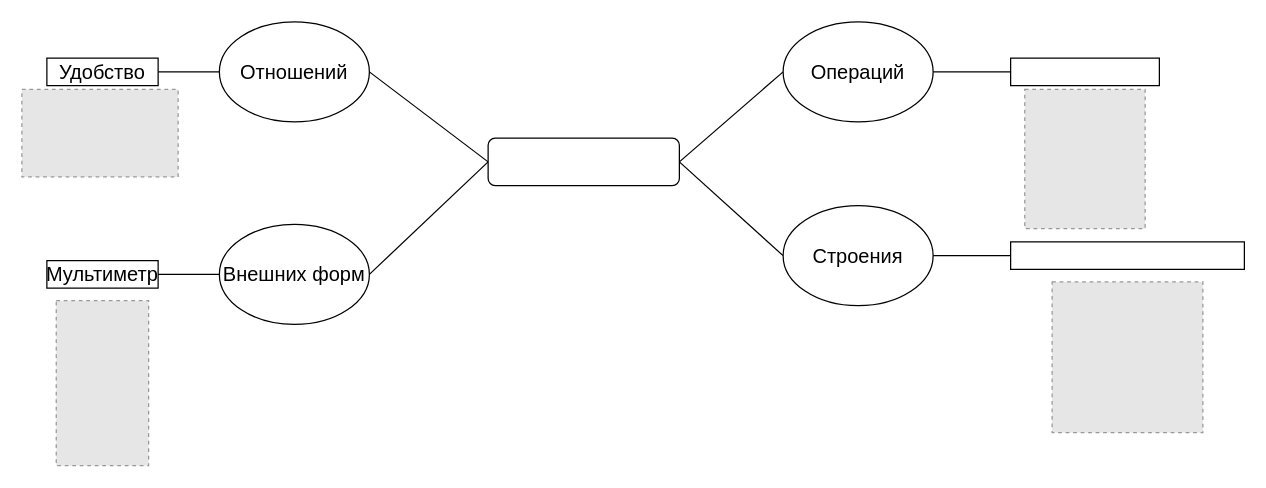
Some shapes in this 1266 by 488 pixel diagram are drawn without their labels. Grey dashed boxes stand in for pictures. Here are the shapes that lost their labels. From the top down, the centre of each, then its label:
point 1084,71: Мерное колесо
point 583,161: Прямая аналогия
point 1126,255: Спидометр автомобиля
